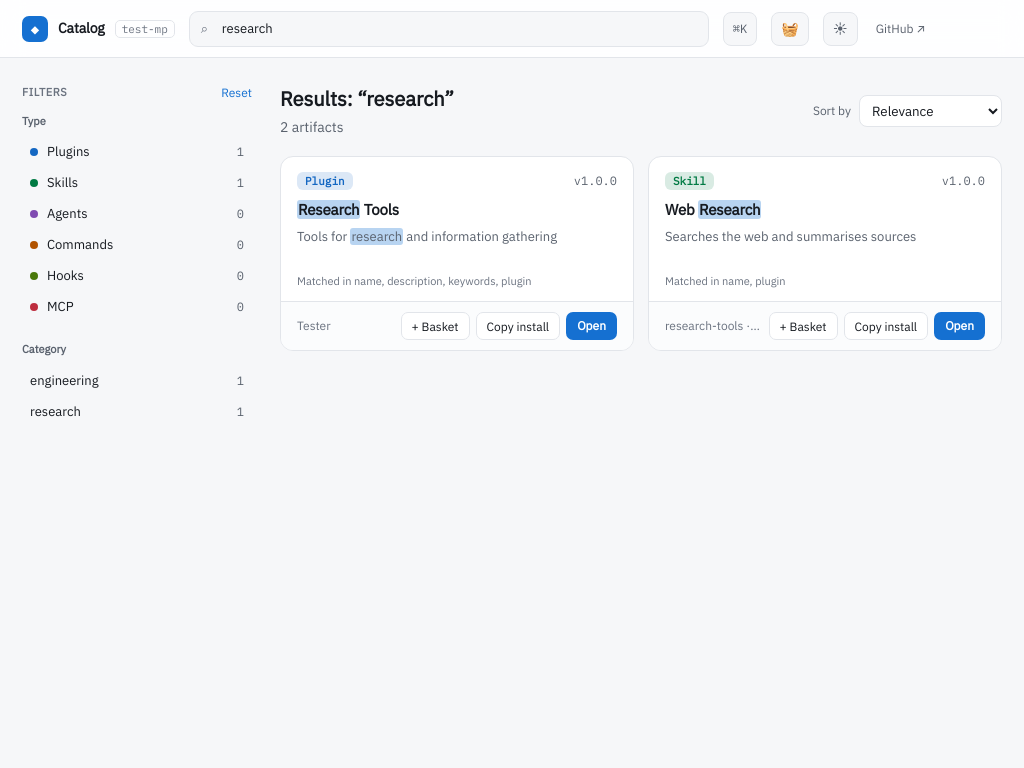
Test: search page › copies the install command from a card
This screenshot has width=1024, height=768.
What coordinates should you click on to do the following:
click the button "Copy install" below "Tools for"
I would click on:
 (518, 326)
Its box is x1=476 y1=312 x2=560 y2=340.
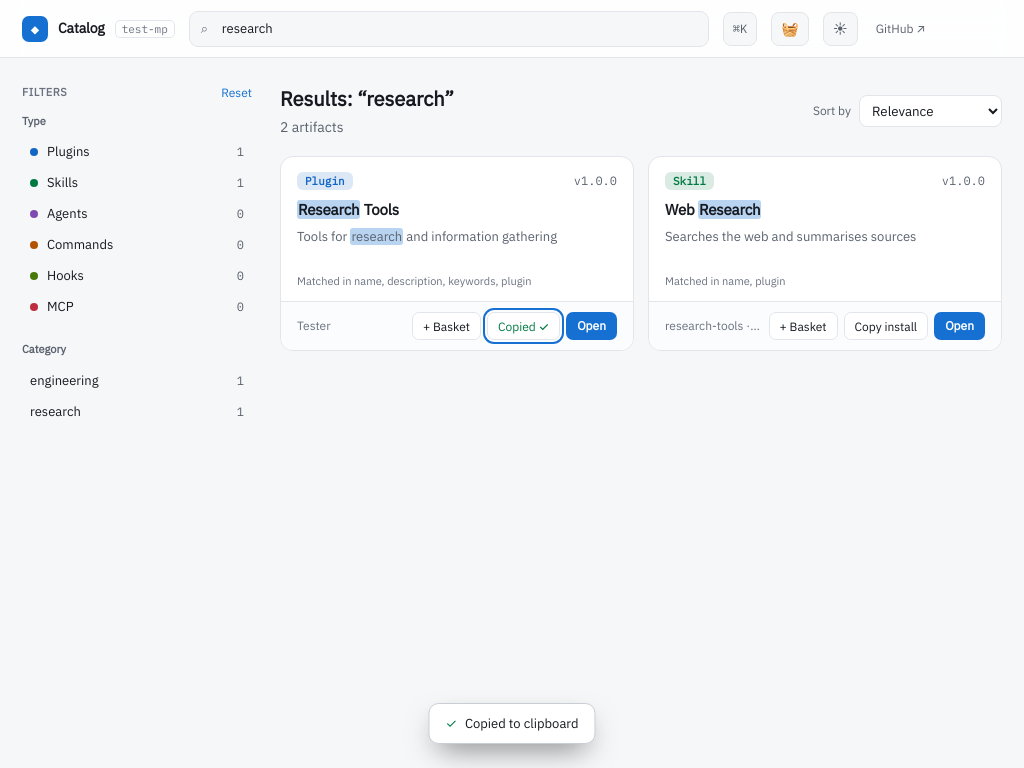
Check: the message "✓ Copied to clipboard" is shown, box x1=428 y1=702 x2=596 y2=744
